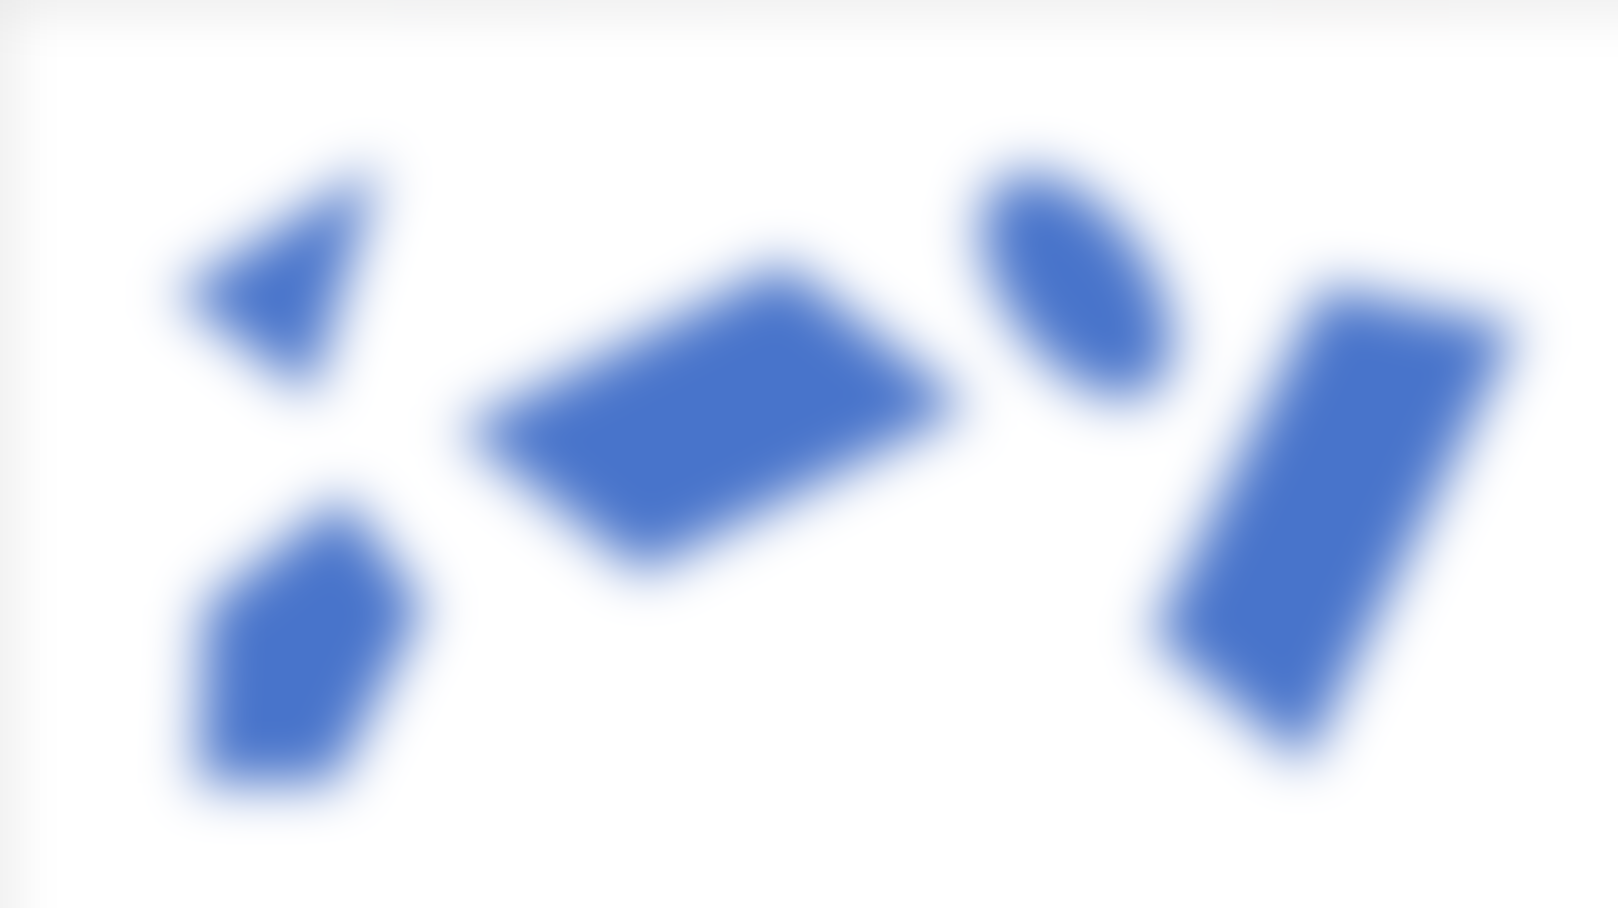circle: (967, 161, 1213, 407)
parallelogram: (470, 248, 973, 583)
pentagon: (160, 483, 465, 824)
trapezium: (1143, 267, 1540, 764)
triangle: (164, 149, 386, 407)
